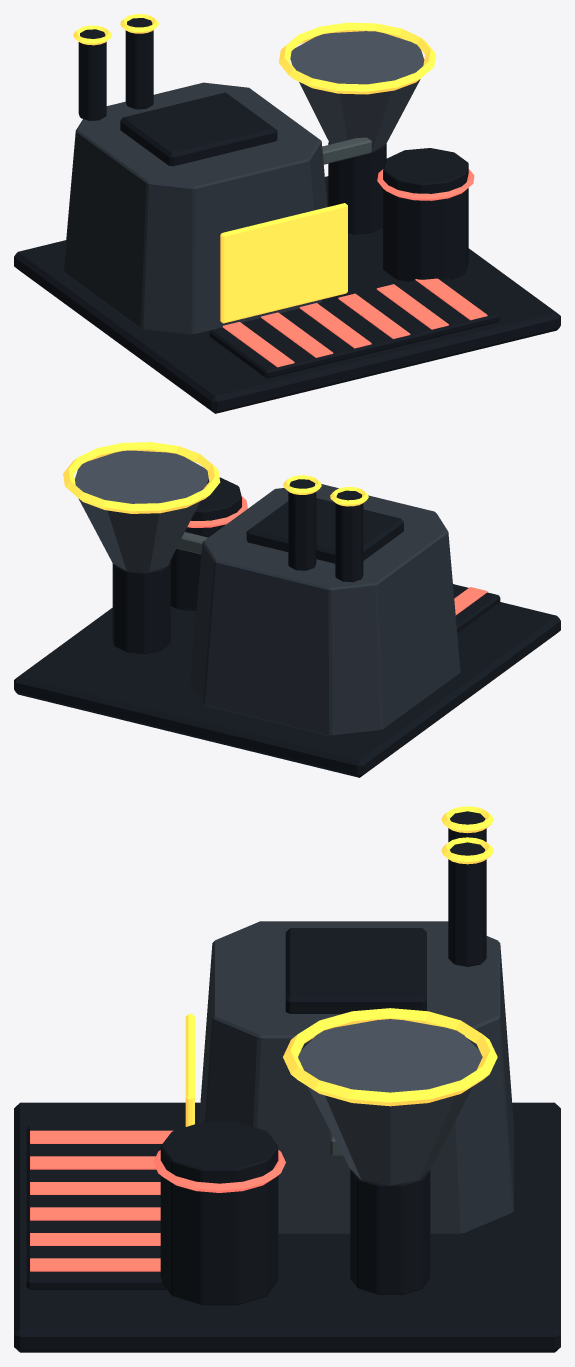
File: m_refinery.glb
3 renders of one model, top to bottom at view 1: azimuth 30°, elevation 25°; view 2: azimuth 150°, elevation 25°; view 3: azimuth 270°, elevation 25°, orthographic. The views are drawn at different scales.
Parts seen in each view (by area): view 1: Refinery; view 2: Refinery; view 3: Refinery.
Part boxes in pixels (x1=…): Refinery: x1=14, y1=14, x2=560, y2=413; Refinery: x1=14, y1=442, x2=560, y2=777; Refinery: x1=14, y1=806, x2=560, y2=1352.
Size of the model in its own units: 5.83 by 3.97 by 5.8.
